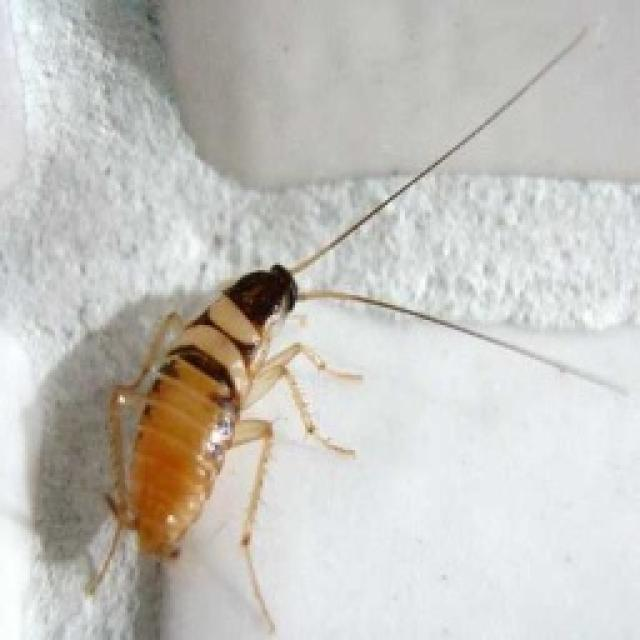cockroach: (76, 233, 396, 635)
